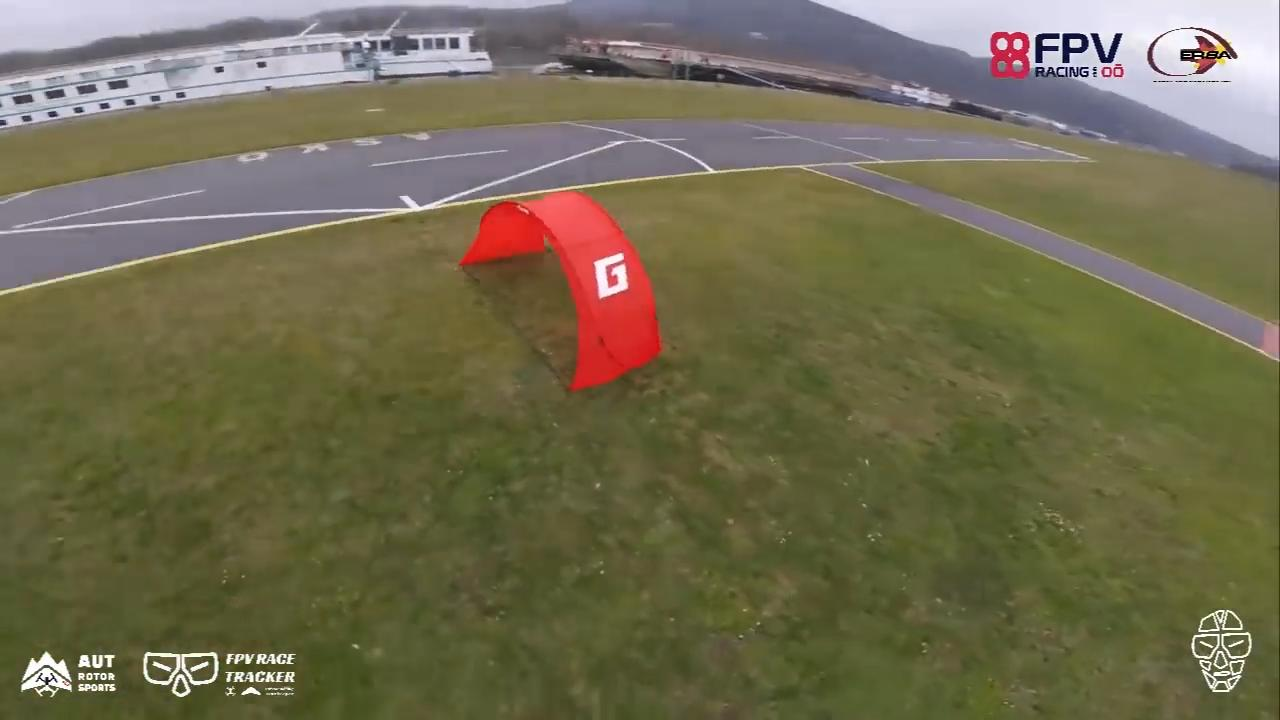gate: (460, 186, 664, 392)
